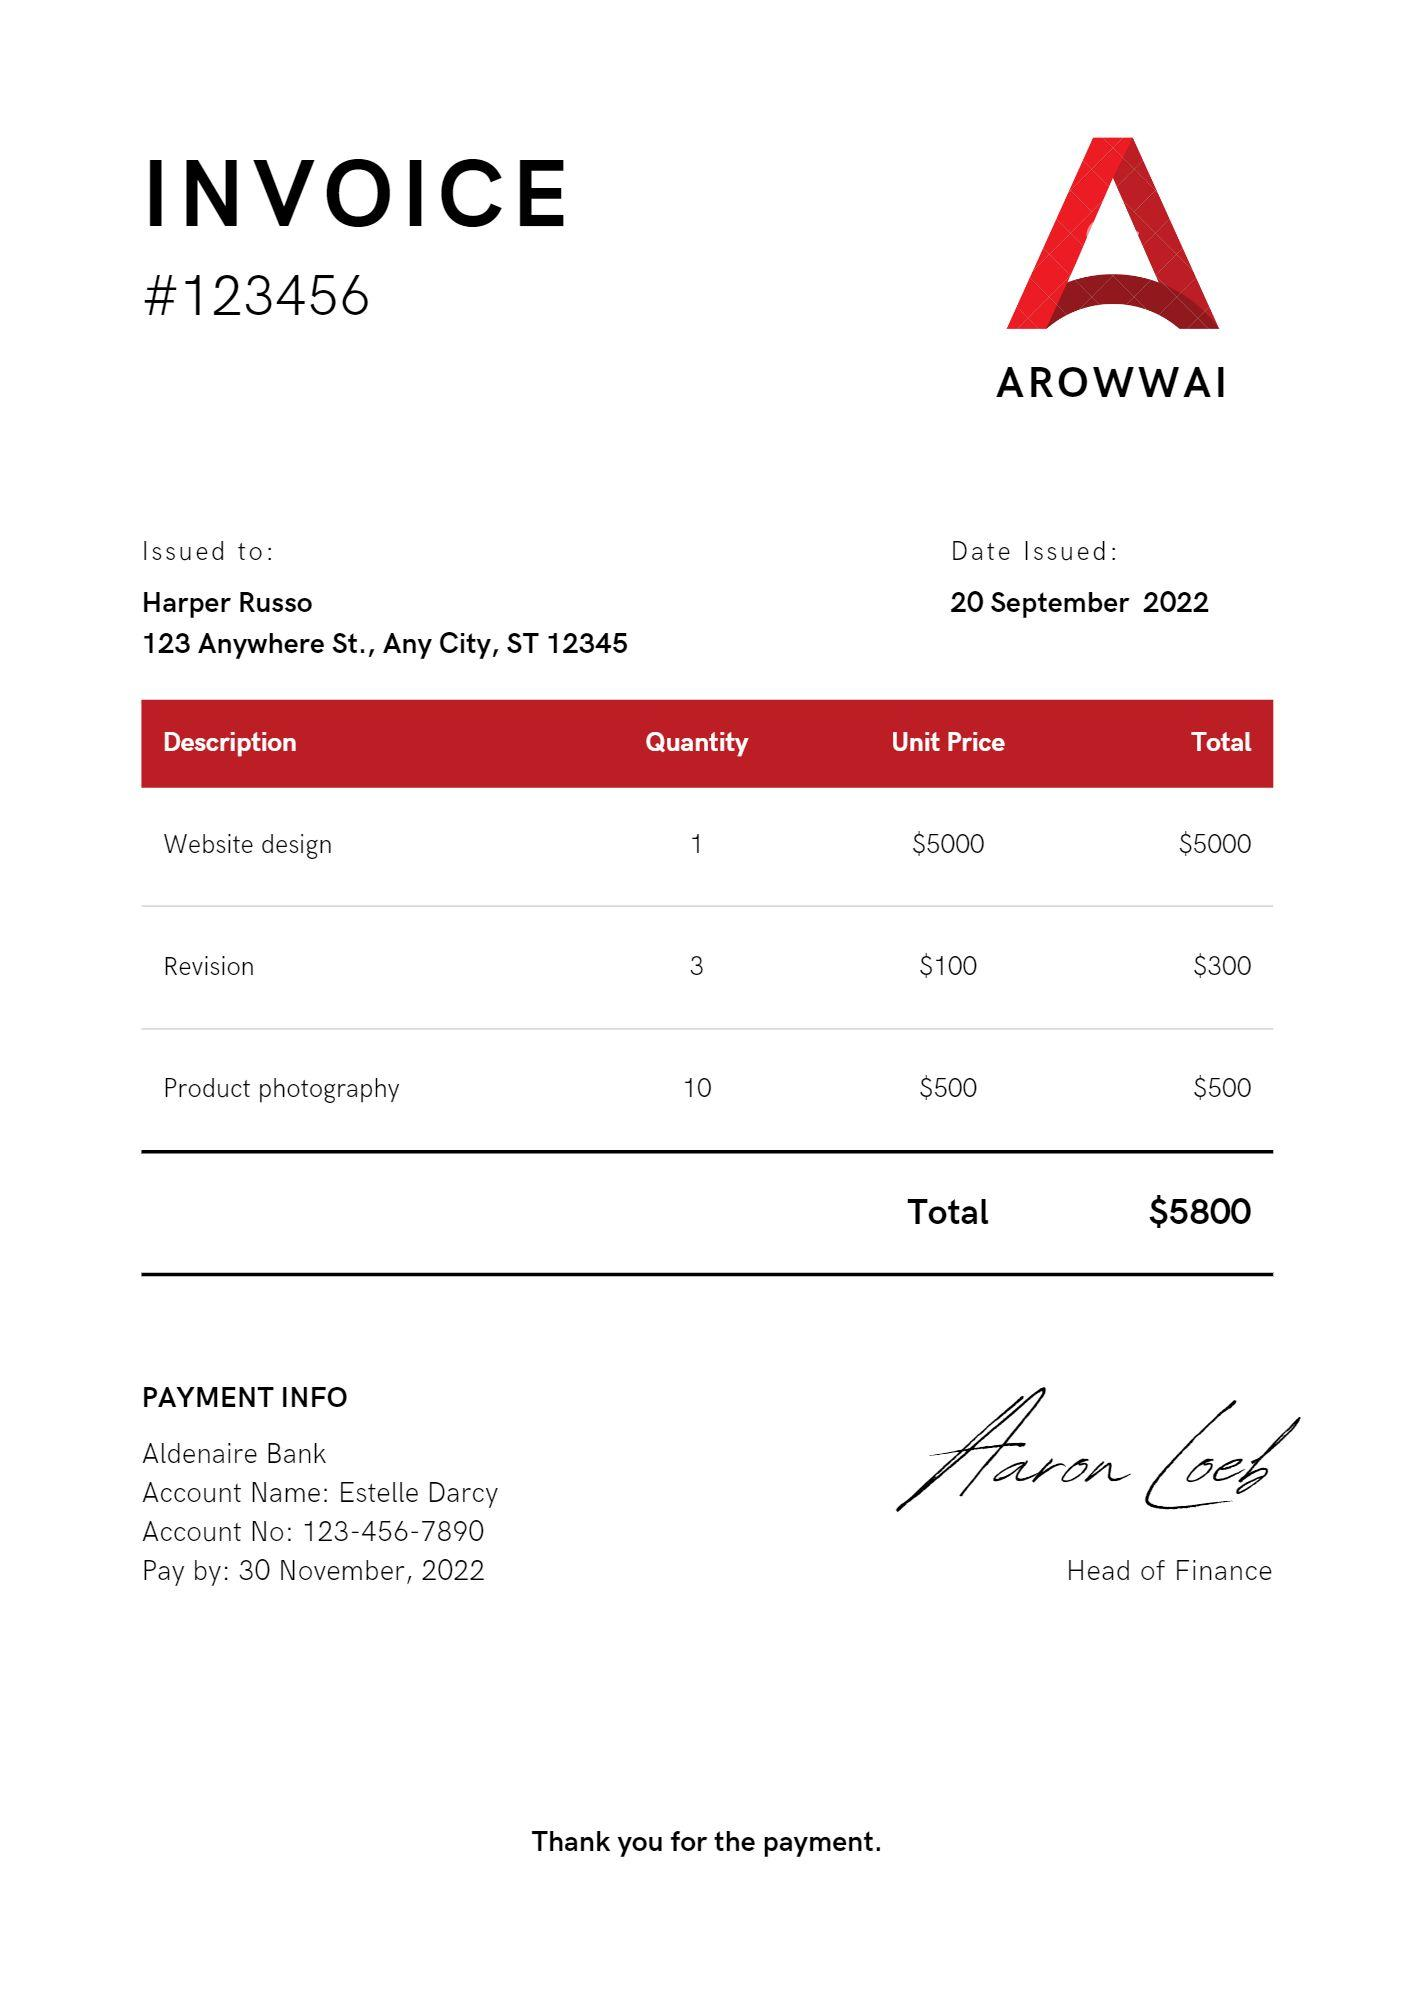ROI: (150, 689, 1269, 1164)
